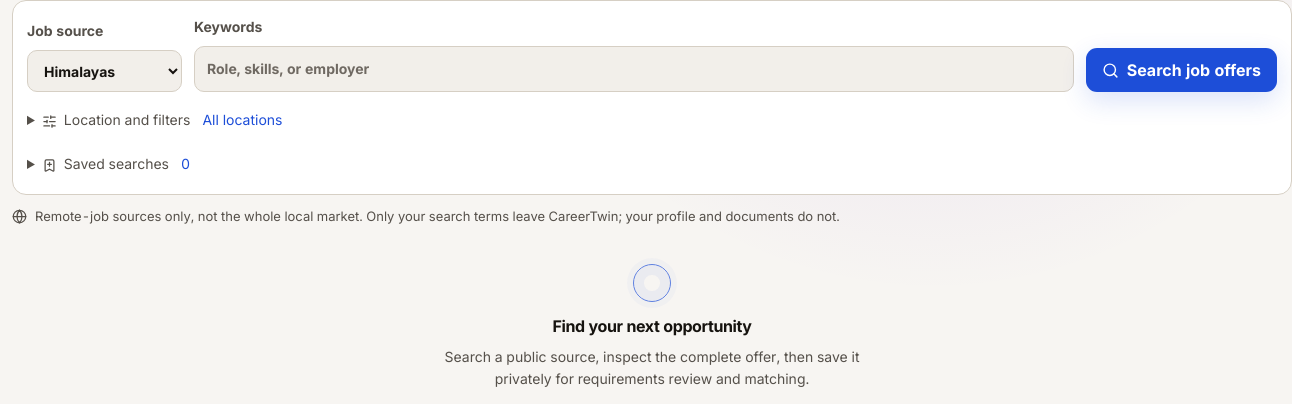
Test: distinguishes an unavailable provider from an empty result
Click the button "Search job offers" at (1181,70), box [1086, 48, 1277, 92]
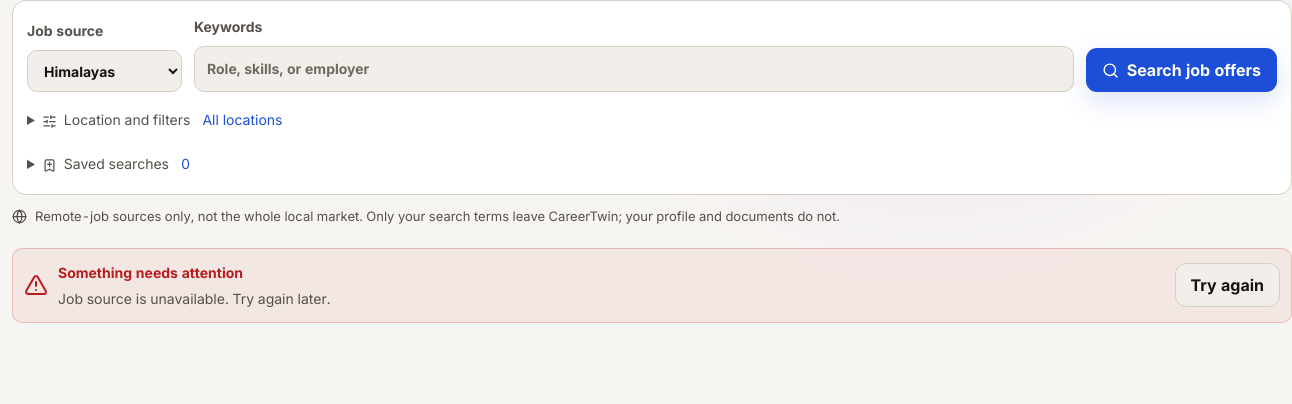
Result: the text "Job source is unavailable. Try again later." is shown at [58, 286, 330, 310]
